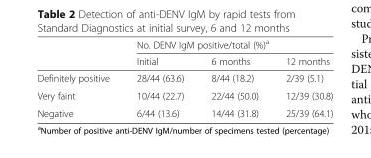table: (36, 37, 332, 118)
table column: (36, 37, 122, 118), (196, 37, 271, 118), (122, 37, 196, 118), (271, 37, 332, 118)
table column header: (36, 37, 332, 69)
table row: (36, 86, 332, 104), (36, 52, 332, 69), (36, 69, 332, 86), (36, 37, 332, 52), (36, 104, 332, 118)
table spanning cell: (122, 37, 332, 52)
